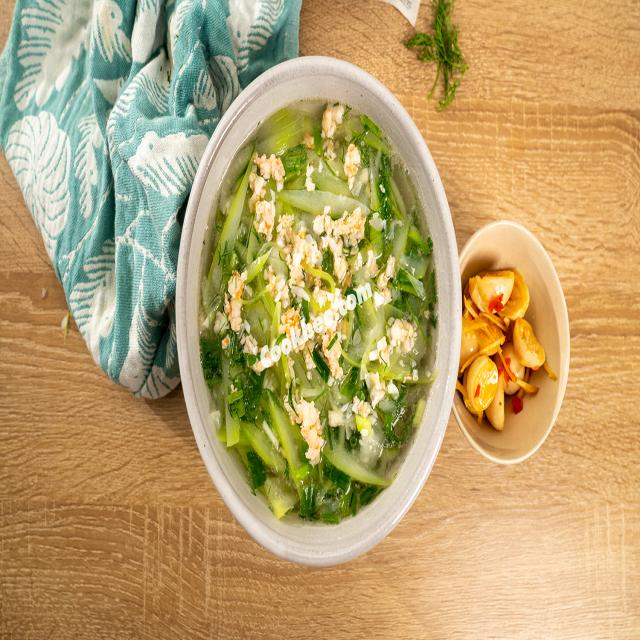canh bau: (201, 99, 440, 519)
